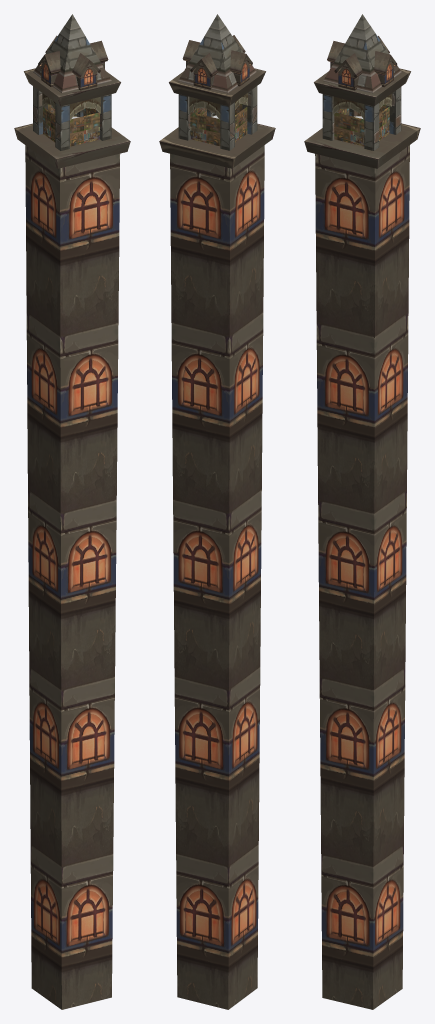
File: dengta_01.FBX
3 renders of one model, left to right at view 1: azimuth 30°, elevation 25°; view 2: azimuth 150°, elevation 25°; view 3: azimuth 330°, elevation 25°, orthographic.
Parts seen in each view (by area): view 1: Box506, 对象408, Plane81, 对象409; view 2: Box506, 对象408, Plane81, 对象409; view 3: Box506, 对象408, Plane81, 对象409.
Boxes of the visible parts, left/top/right/bottom form: Box506: left=14, top=35, right=130, bottom=1009; 对象408: left=33, top=14, right=111, bottom=150; Plane81: left=43, top=104, right=99, bottom=146; 对象409: left=42, top=93, right=100, bottom=120; Box506: left=159, top=35, right=275, bottom=1009; 对象408: left=178, top=14, right=257, bottom=150; Plane81: left=190, top=103, right=247, bottom=146; 对象409: left=189, top=93, right=247, bottom=120; Box506: left=304, top=36, right=420, bottom=1009; 对象408: left=322, top=14, right=401, bottom=150; Plane81: left=334, top=104, right=389, bottom=146; 对象409: left=333, top=93, right=391, bottom=119.
Size of the model in its own units: 178 by 2254 by 178.
